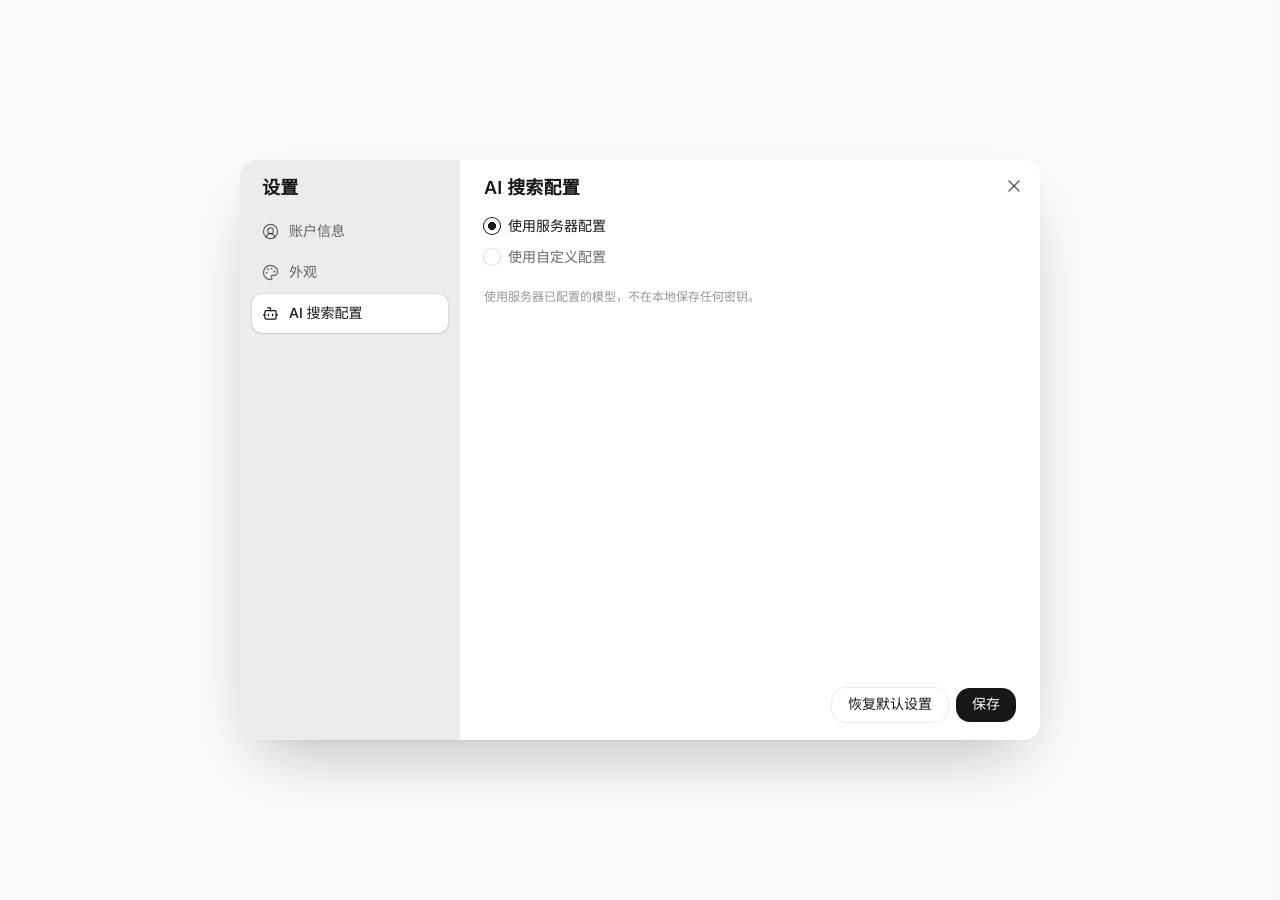
it: SettingsModal AI 搜索配置：配置来源与字段 › 点击下拉以外的区域收起浮层
Click the radio button labelled "使用自定义配置": [492, 257] box [484,249,500,265]
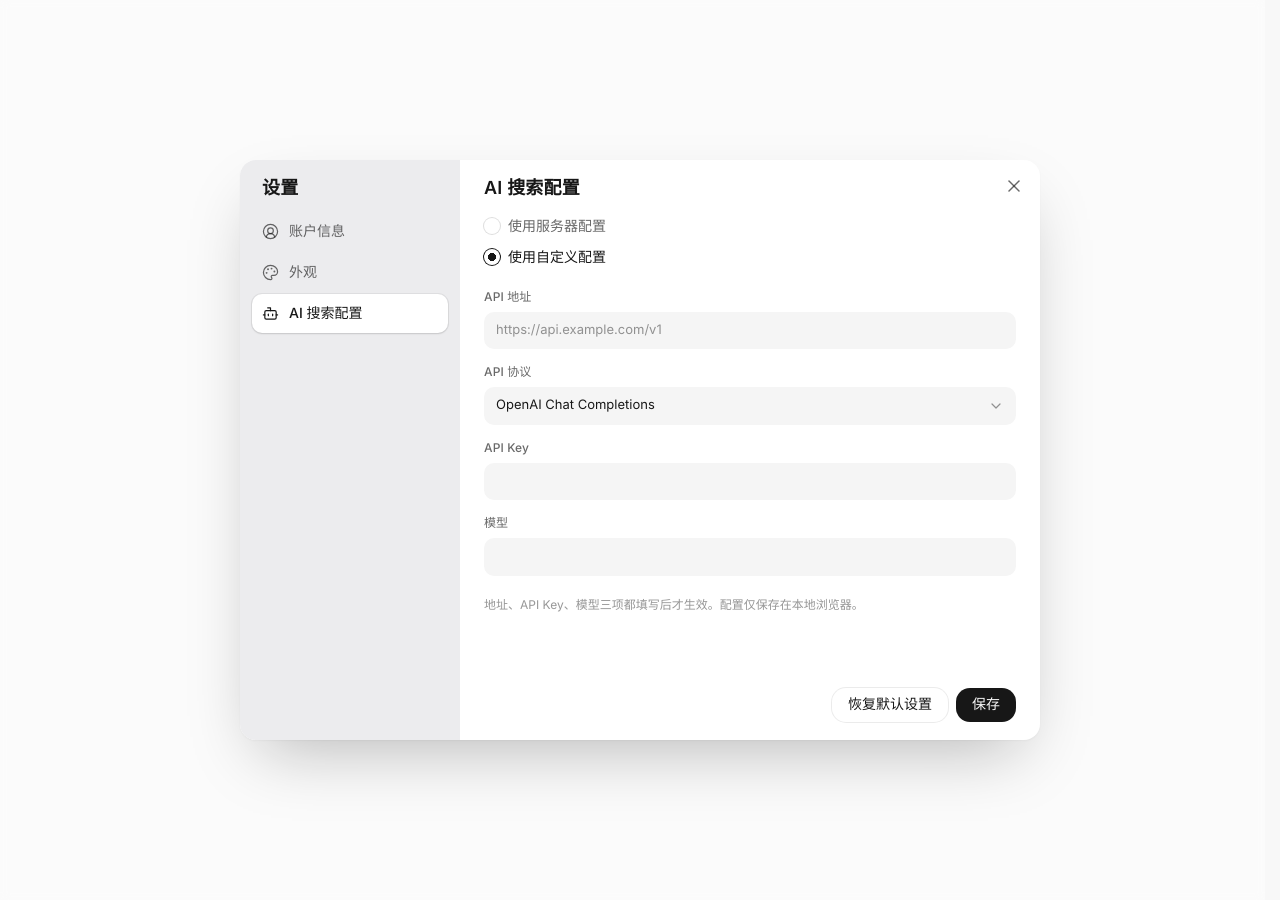
Click the button with aria-label "API 协议": [575, 405] box [484,387,1016,425]
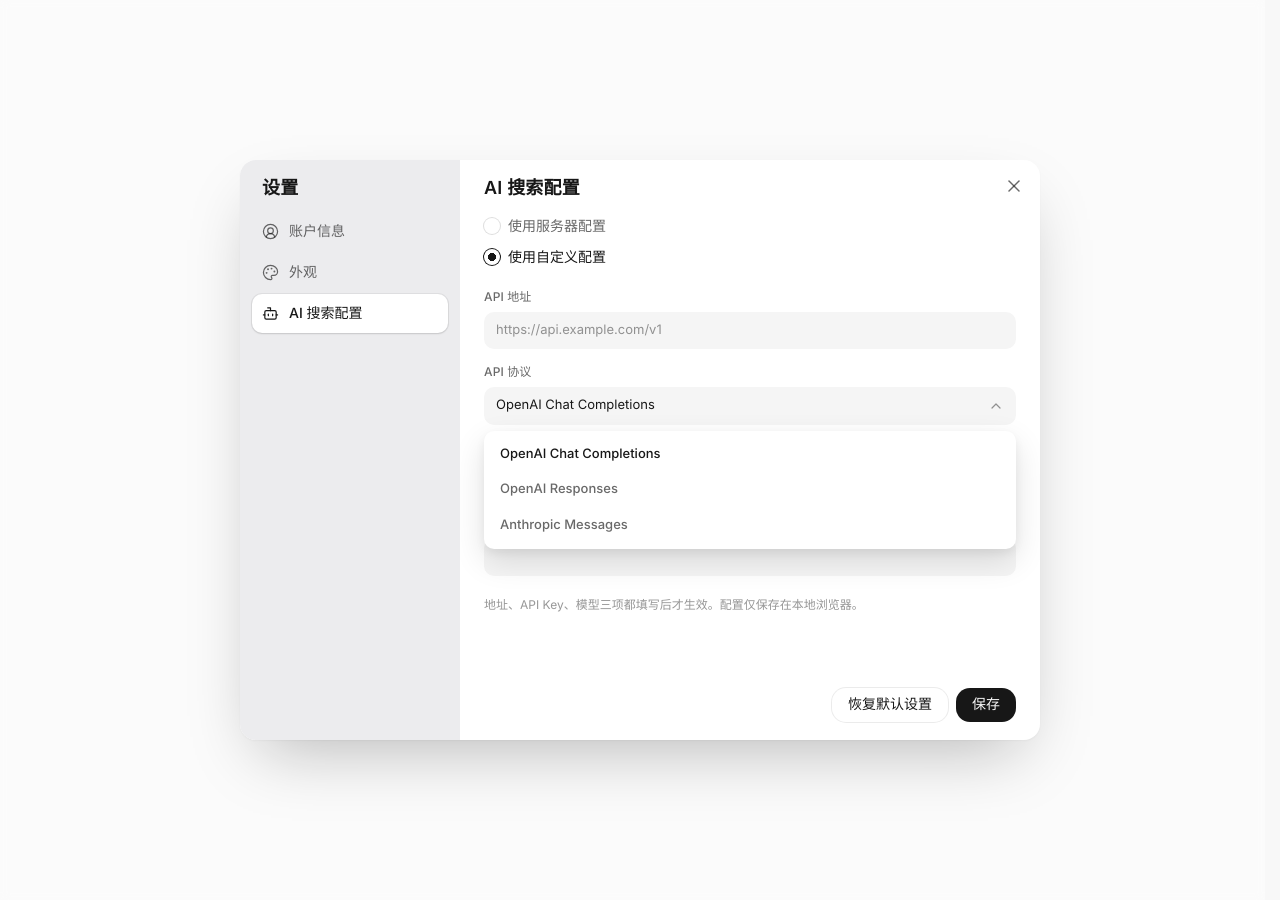
Expected: the list with class "settings-select-menu" is shown, [484,431,1016,549]
Press the mouse on the text "使用服务器配置": [557, 226] box [508,216,606,237]
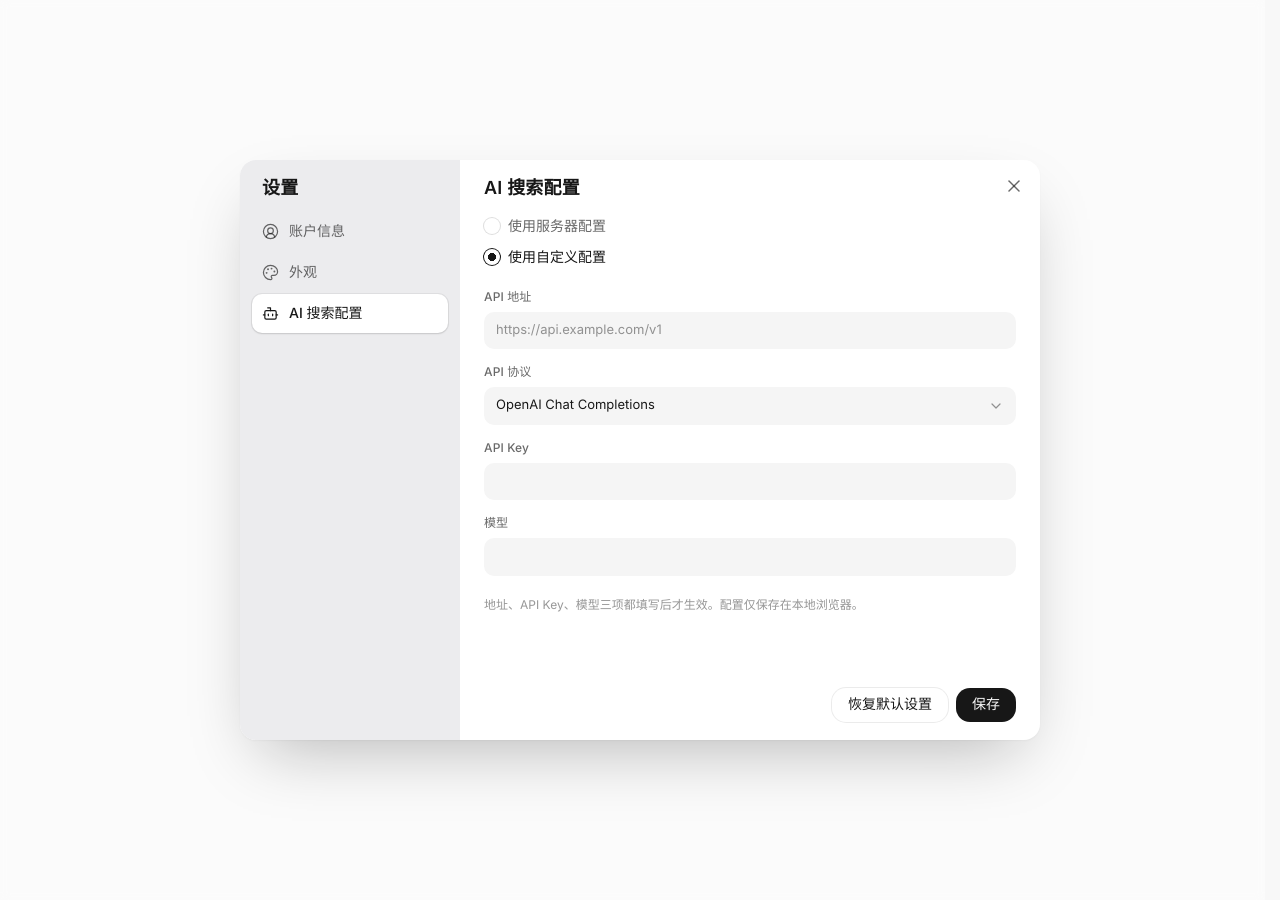
Expected: the list with class "settings-select-menu" is gone
